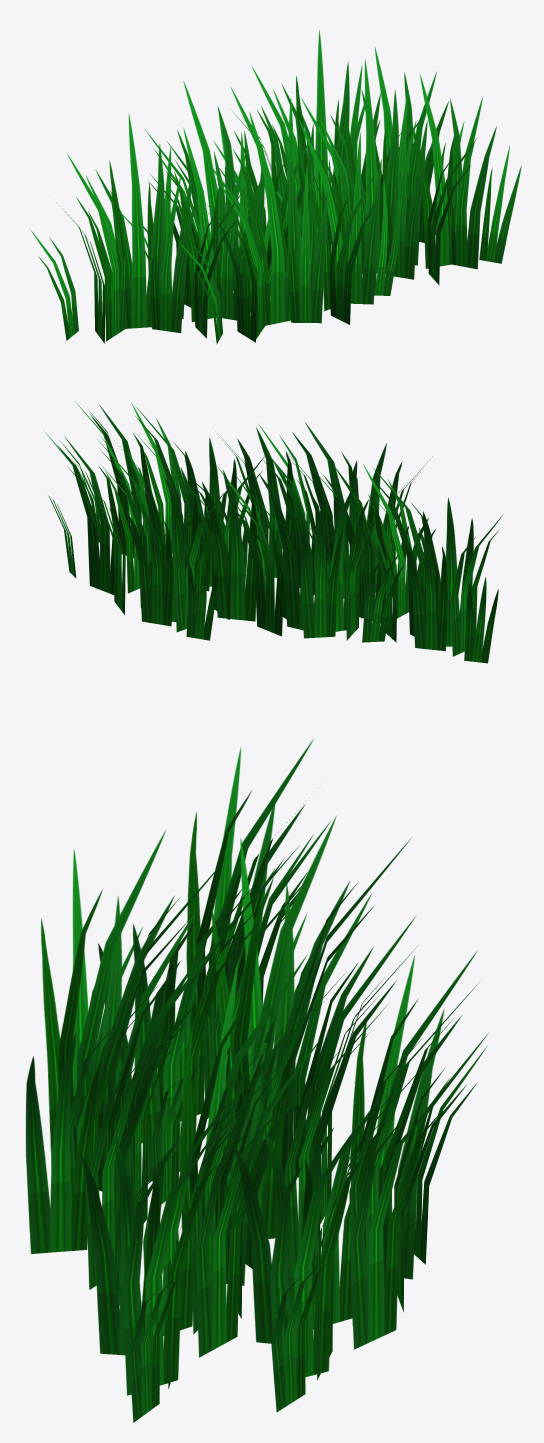
Rendered from Grass3.glb.
3 renders of one model, top to bottom at view 1: azimuth 30°, elevation 25°; view 2: azimuth 150°, elevation 25°; view 3: azimuth 270°, elevation 25°, orthographic. The views are drawn at different scales.
Visible parts, largest first — view 1: Grass_06d; view 2: Grass_06d; view 3: Grass_06d.
Part boxes in pixels (x1,y1,x2,y2): Grass_06d: [30, 30, 521, 344]; Grass_06d: [44, 401, 503, 663]; Grass_06d: [25, 739, 488, 1422].
Size of the model in its own units: 35.45 by 14.08 by 17.25.
Materials: 1 (1 with a texture image).
